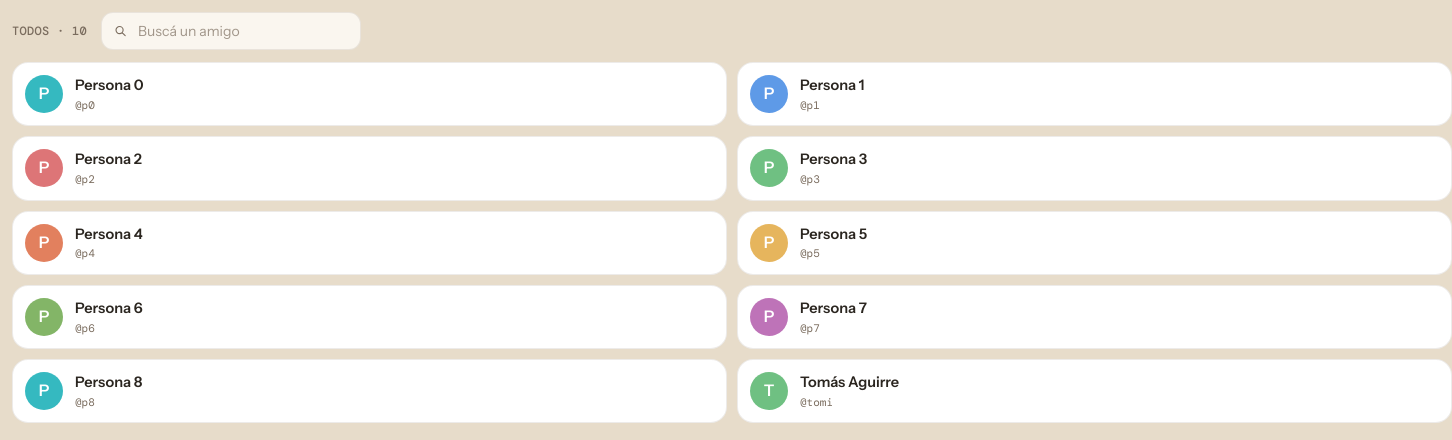
FriendList › finds Tomás when you type tomas
Type "tomas" into the search field labelled "Buscá un amigo" at (231, 31), box [101,12,361,50]
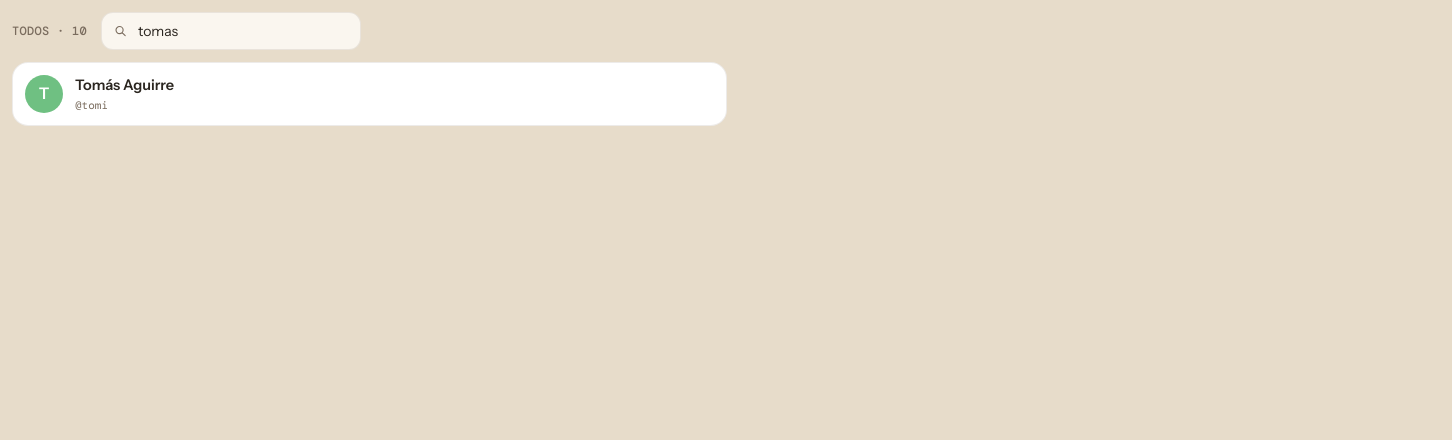
Expected: the text "Tomás Aguirre" is shown, [75,75,174,97]
Expected: the link "Persona 0" is gone
